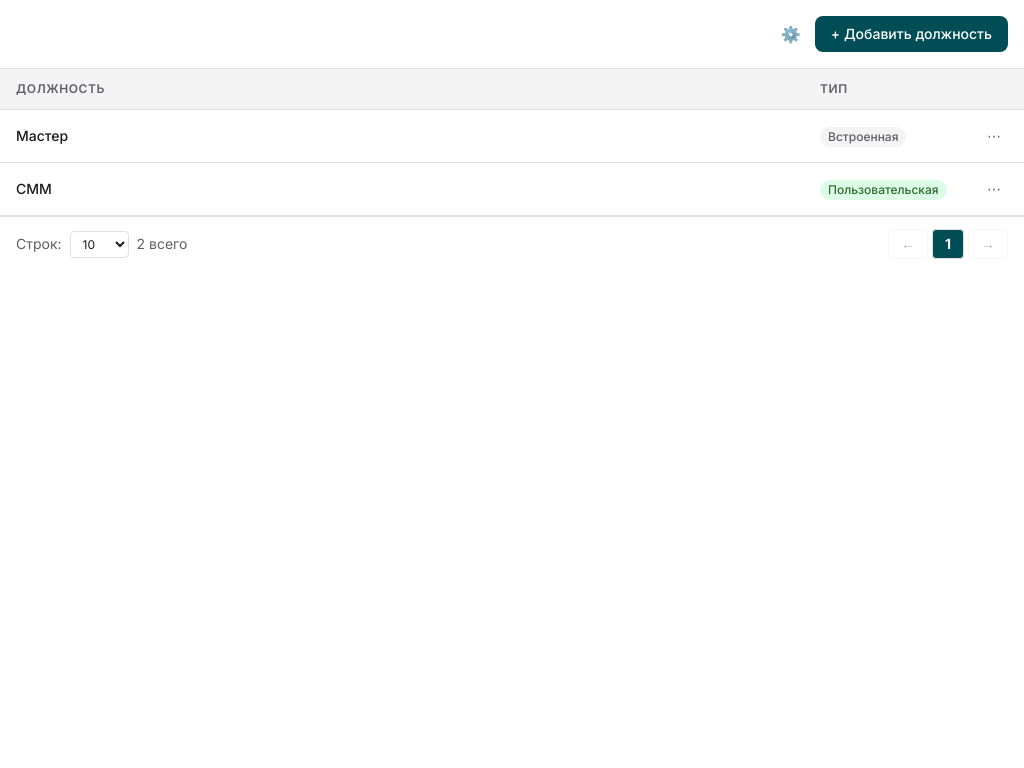
Test case: PositionsTable delete flow — full pipeline (GH #324 §9.5/§9.6) › §9.6 system position: dry-run 422 POSITION_IS_SYSTEM → explanation toast, nothing enqueued, row stays
The image size is (1024, 768).
Expected: the text "Мастер" is shown, [16,127,68,144]
Click the button "⋯" in the row of "Мастер" at (994, 136), box [980,122,1008,150]
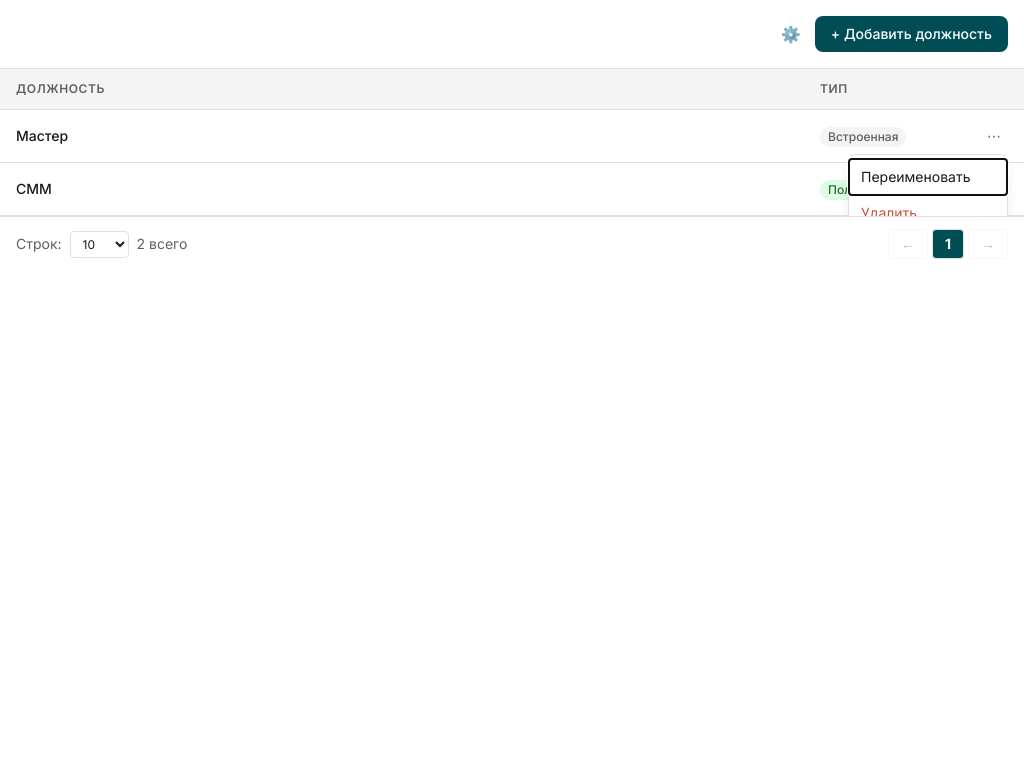
Click the menu item "Удалить" at (928, 213), box [849,195,1007,231]
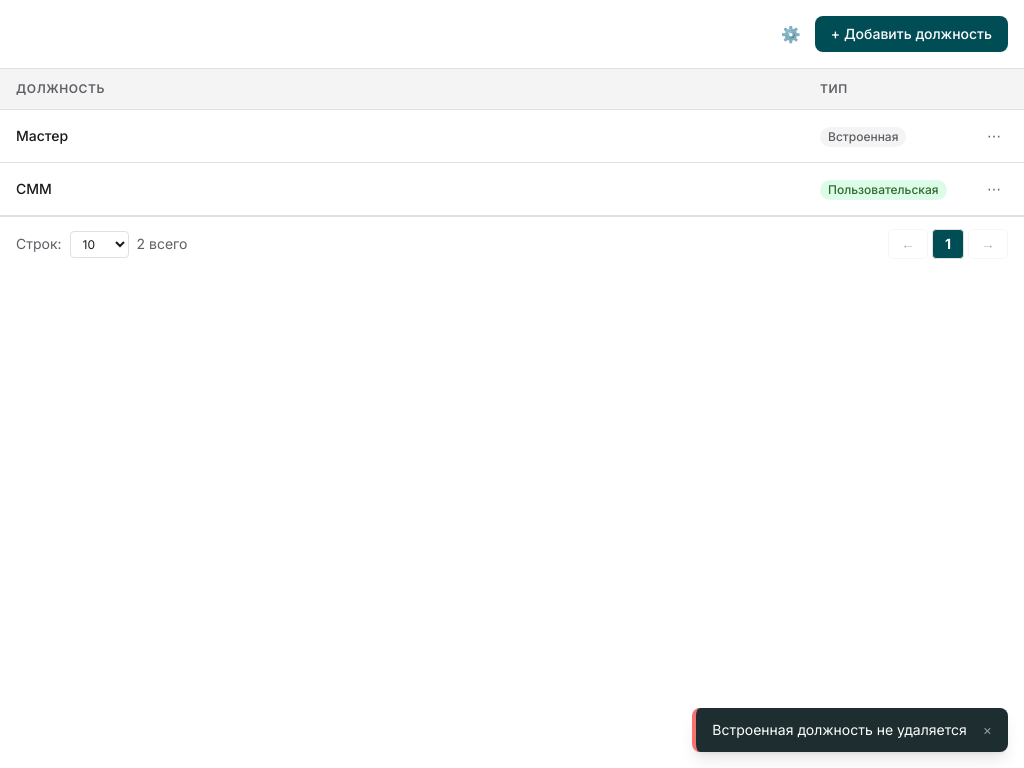
Expected: the row with test id "position-row-master" is shown, [0,110,1023,162]
Expected: the text "Встроенная должность не удаляется" is shown, [712,720,967,740]
